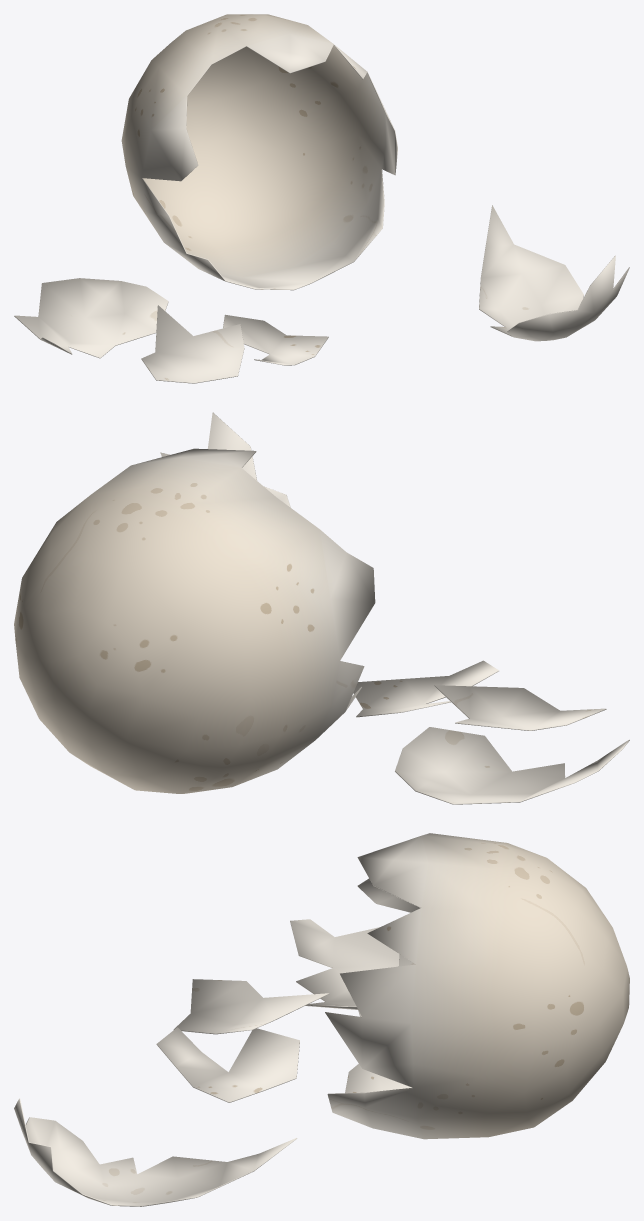
The model's file is EmptyEggShell.fbx.
3 views of the same model, one above another, from view 1: azimuth 30°, elevation 25°; view 2: azimuth 150°, elevation 25°; view 3: azimuth 270°, elevation 25° (orthographic). The views are drawn at different scales.
Parts seen in each view (by area): view 1: EggShell02.001; view 2: EggShell02.001; view 3: EggShell02.001.
Part boxes in pixels (bbox=[...]): EggShell02.001: bbox=[14, 14, 629, 383]; EggShell02.001: bbox=[14, 412, 629, 804]; EggShell02.001: bbox=[14, 833, 629, 1206].
Bounding box in the file's own units: 0.2478 × 0.1185 × 0.2392.
